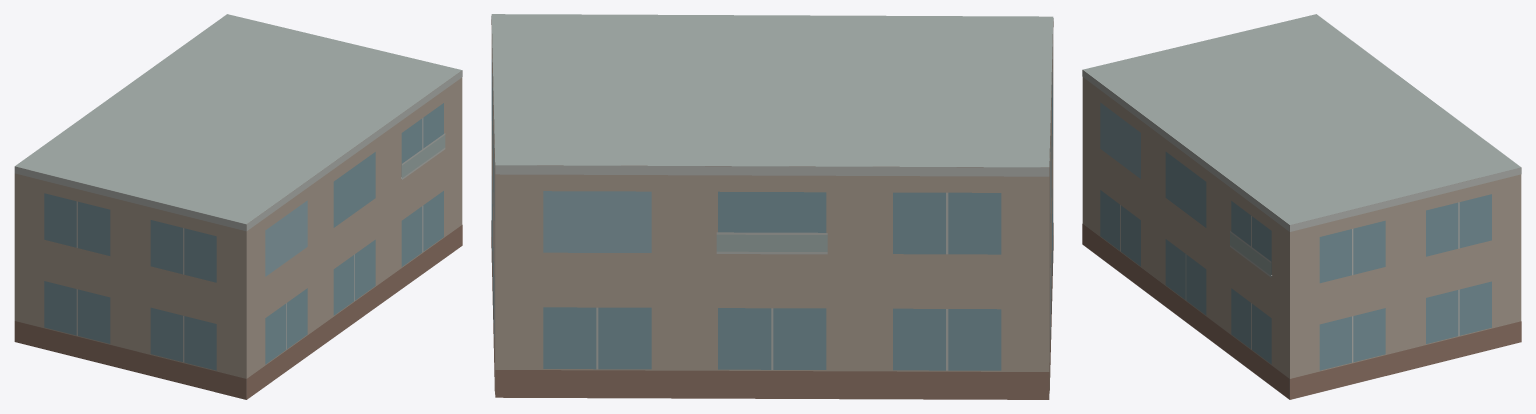
The model's file is survey-upis-32713691.glb.
3 renders of one model, left to right at view 1: azimuth 30°, elevation 25°; view 2: azimuth 150°, elevation 25°; view 3: azimuth 270°, elevation 25°, orthographic. The views are drawn at different scales.
Parts seen in each view (by area): view 1: survey-upis-32713691.tmp; view 2: survey-upis-32713691.tmp; view 3: survey-upis-32713691.tmp.
Boxes of the visible parts, left/top/right/bottom form: survey-upis-32713691.tmp: left=14, top=14, right=462, bottom=399; survey-upis-32713691.tmp: left=491, top=14, right=1053, bottom=399; survey-upis-32713691.tmp: left=1082, top=14, right=1521, bottom=399.
Bounding box in the file's own units: 15.81 × 6.1 × 13.89.
